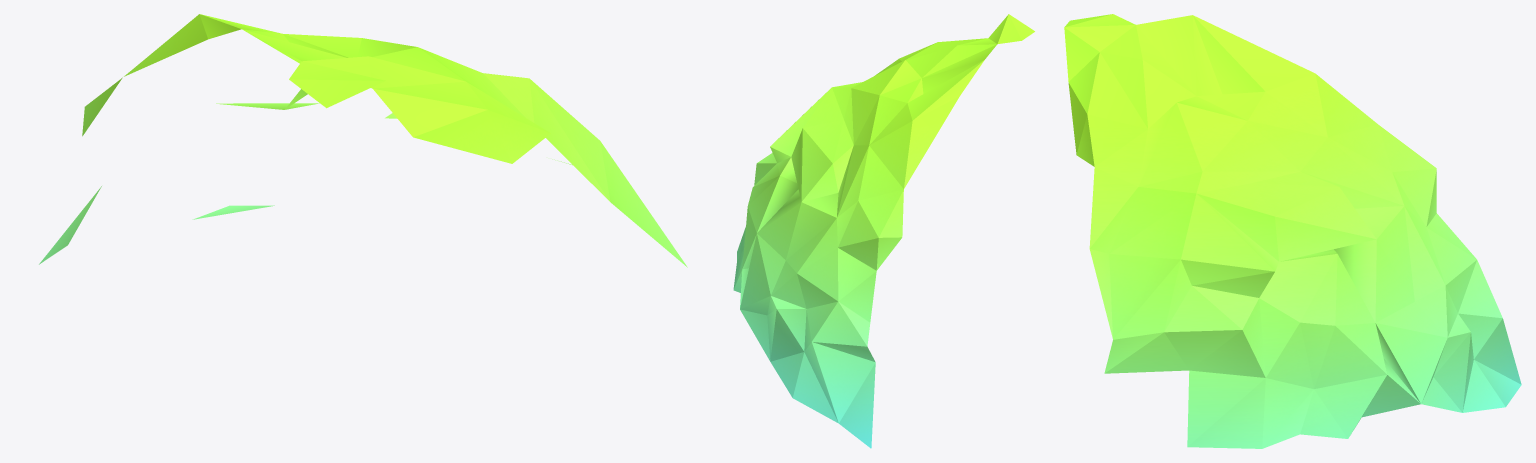
The model's file is Brain C.gltf.
3 renders of one model, left to right at view 1: azimuth 30°, elevation 25°; view 2: azimuth 150°, elevation 25°; view 3: azimuth 270°, elevation 25°, orthographic. The views are drawn at different scales.
Parts seen in each view (by area): view 1: BrainSolid Light C; view 2: BrainSolid Light C; view 3: BrainSolid Light C.
Boxes of the visible parts, x1=… form: BrainSolid Light C: x1=39, y1=14, x2=687, y2=267; BrainSolid Light C: x1=733, y1=14, x2=1034, y2=448; BrainSolid Light C: x1=1064, y1=14, x2=1521, y2=448.
Size of the model in its own units: 2.33 by 2.98 by 3.1.
Materials: 1 (1 with a texture image).
